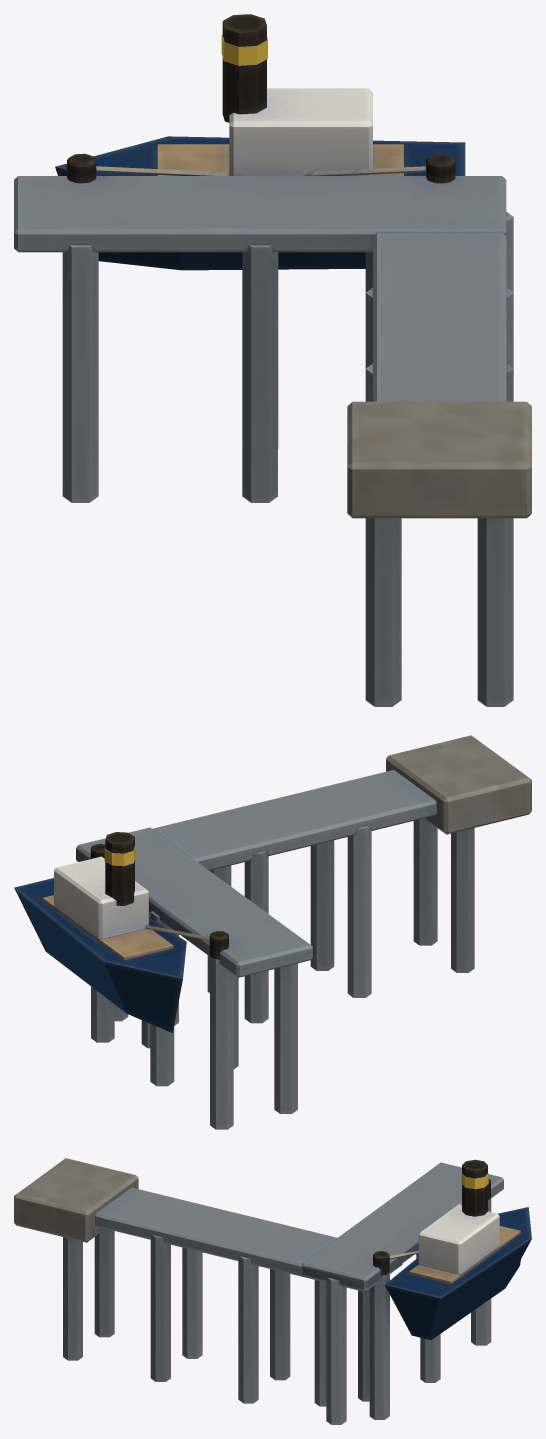
Rendered from harbor-pier-15.glb.
The picture shows the model from 3 angles, top to bottom: view 1: azimuth 30°, elevation 25°; view 2: azimuth 150°, elevation 25°; view 3: azimuth 270°, elevation 25°; orthographic projection. The views are drawn at different scales.
Parts seen in each view (by area): view 1: harbor-pier-15; view 2: harbor-pier-15; view 3: harbor-pier-15.
Boxes of the visible parts, x1,y1,x2,y2 form: harbor-pier-15: [14, 14, 531, 706]; harbor-pier-15: [14, 735, 531, 1129]; harbor-pier-15: [14, 1158, 531, 1424].
Bounding box in the file's own units: 1.01 × 0.84 × 1.79.
Materials: 1 (1 with a texture image).
